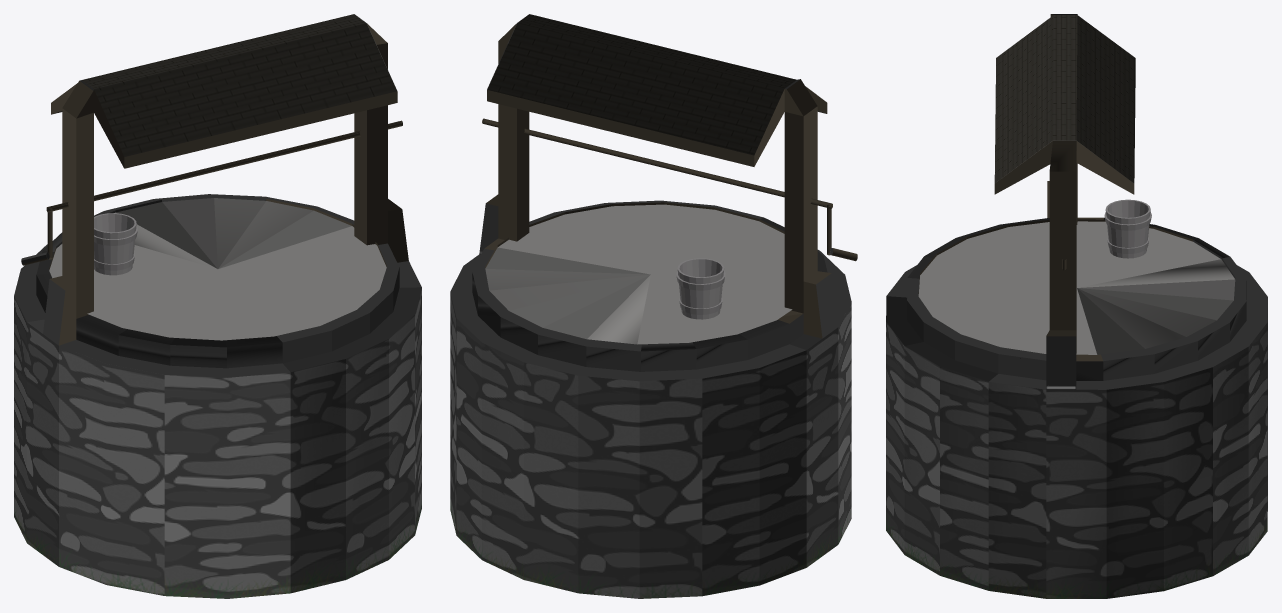
The model's file is Pou.fbx.
3 views of the same model, side by side, from view 1: azimuth 30°, elevation 25°; view 2: azimuth 150°, elevation 25°; view 3: azimuth 270°, elevation 25° (orthographic). The views are drawn at different scales.
Parts seen in each view (by area): view 1: pPipe1_1, pPipe2_1; view 2: pPipe1_1, pPipe2_1; view 3: pPipe1_1, pPipe2_1.
Part boxes in pixels (<box>): pPipe1_1: <box>14,14,421,598</box>; pPipe2_1: <box>94,213,137,275</box>; pPipe1_1: <box>450,14,857,598</box>; pPipe2_1: <box>676,258,725,319</box>; pPipe1_1: <box>886,14,1267,598</box>; pPipe2_1: <box>1104,199,1151,258</box>.
Bounding box in the file's own units: 224 × 263 × 207.
2 materials, 2 textured.
